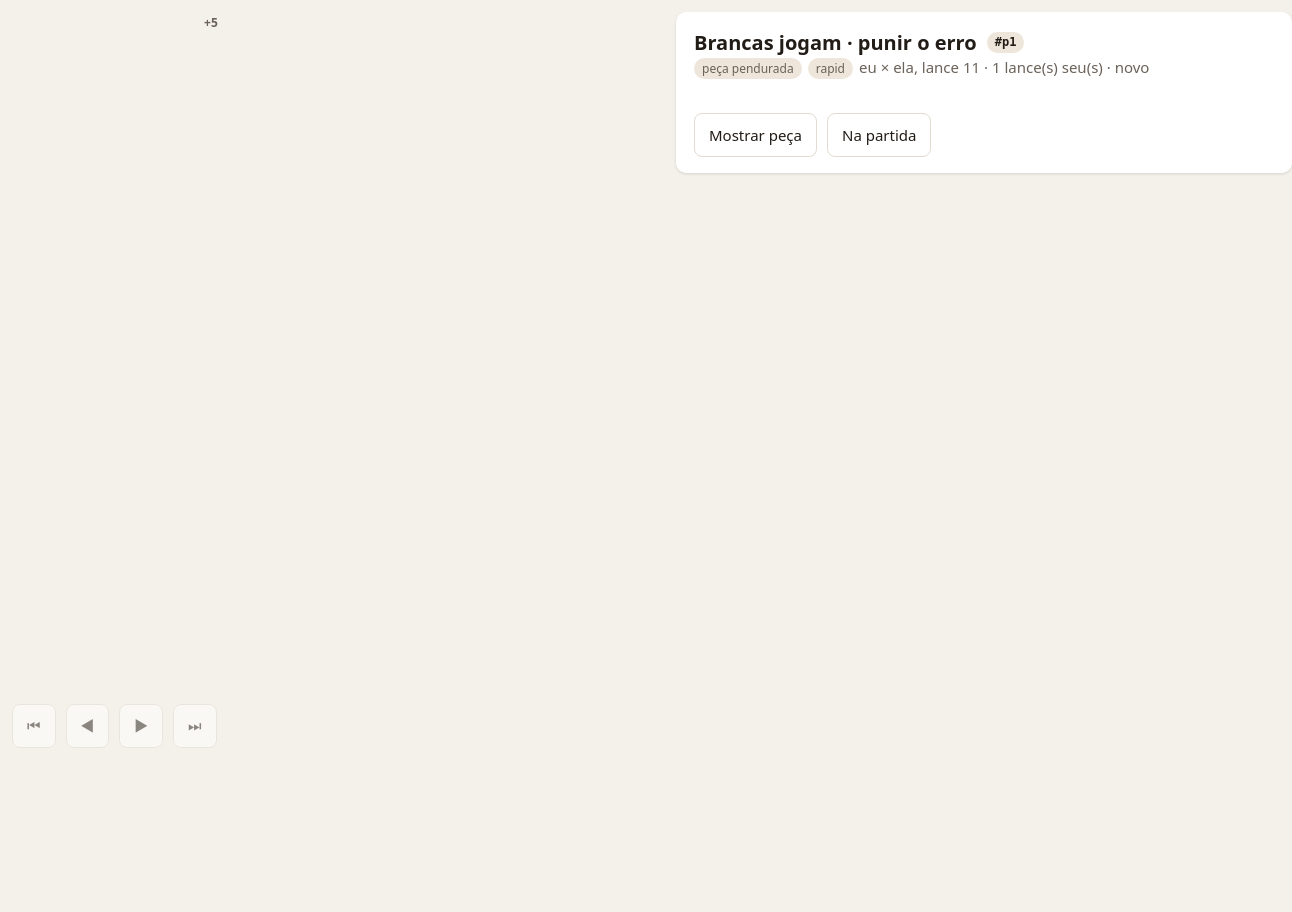
Scenario: o cartão do erro fica escondido atrás do botão 'Meu erro'
This screenshot has width=1292, height=912.
Check: the text "Na partida você jogou" is not shown
Click the button "Na partida". click: (879, 135)
box: 827,113 -> 932,157
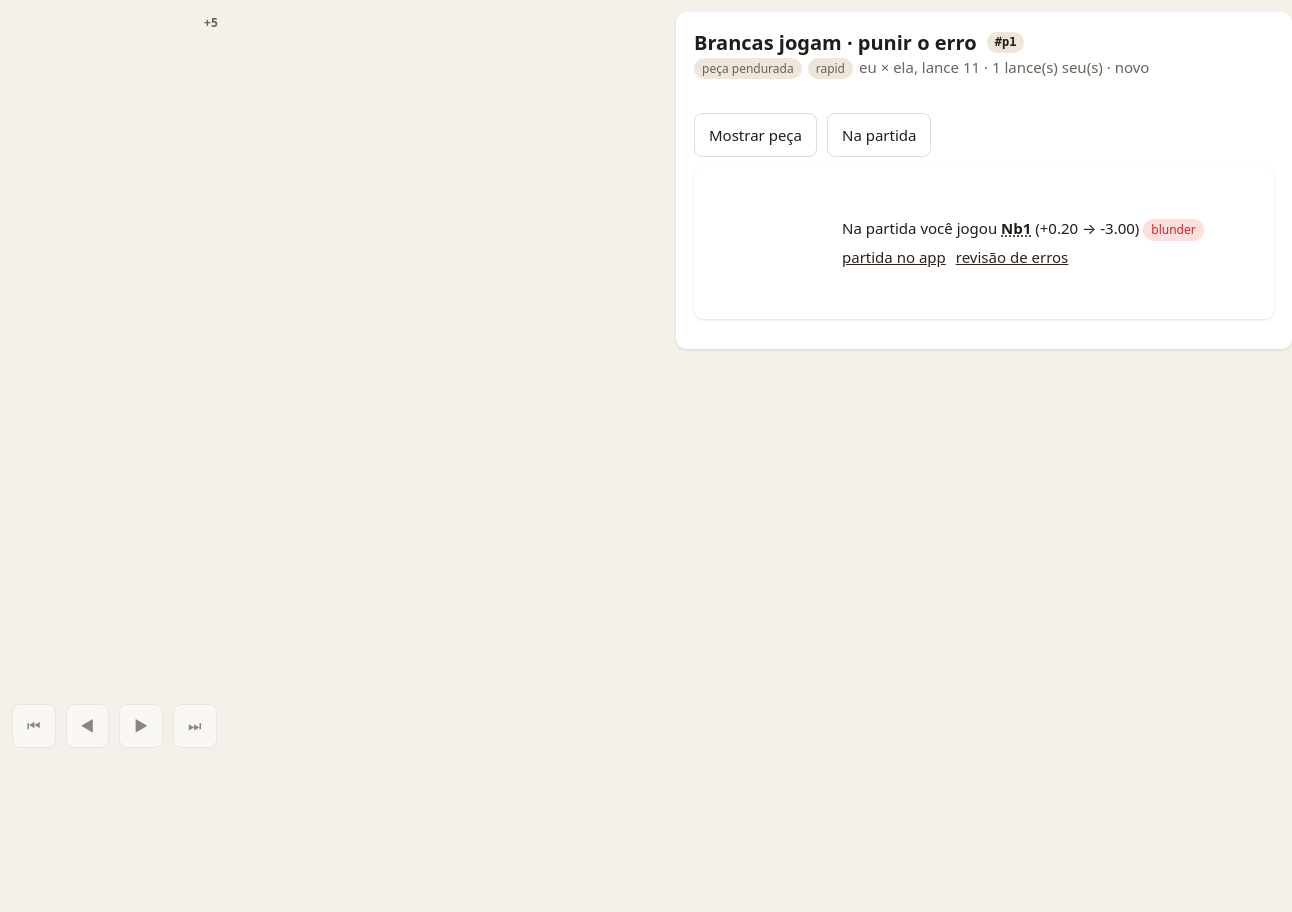
Check: the text "Na partida você jogou Nb1 (+0.20 → -3.00) blunder" is shown, box 842,218 -> 1256,241
Check: the link "partida no app" is shown, box 842,247 -> 946,268
Click the button "Na partida". click: (879, 135)
box: 827,113 -> 932,157
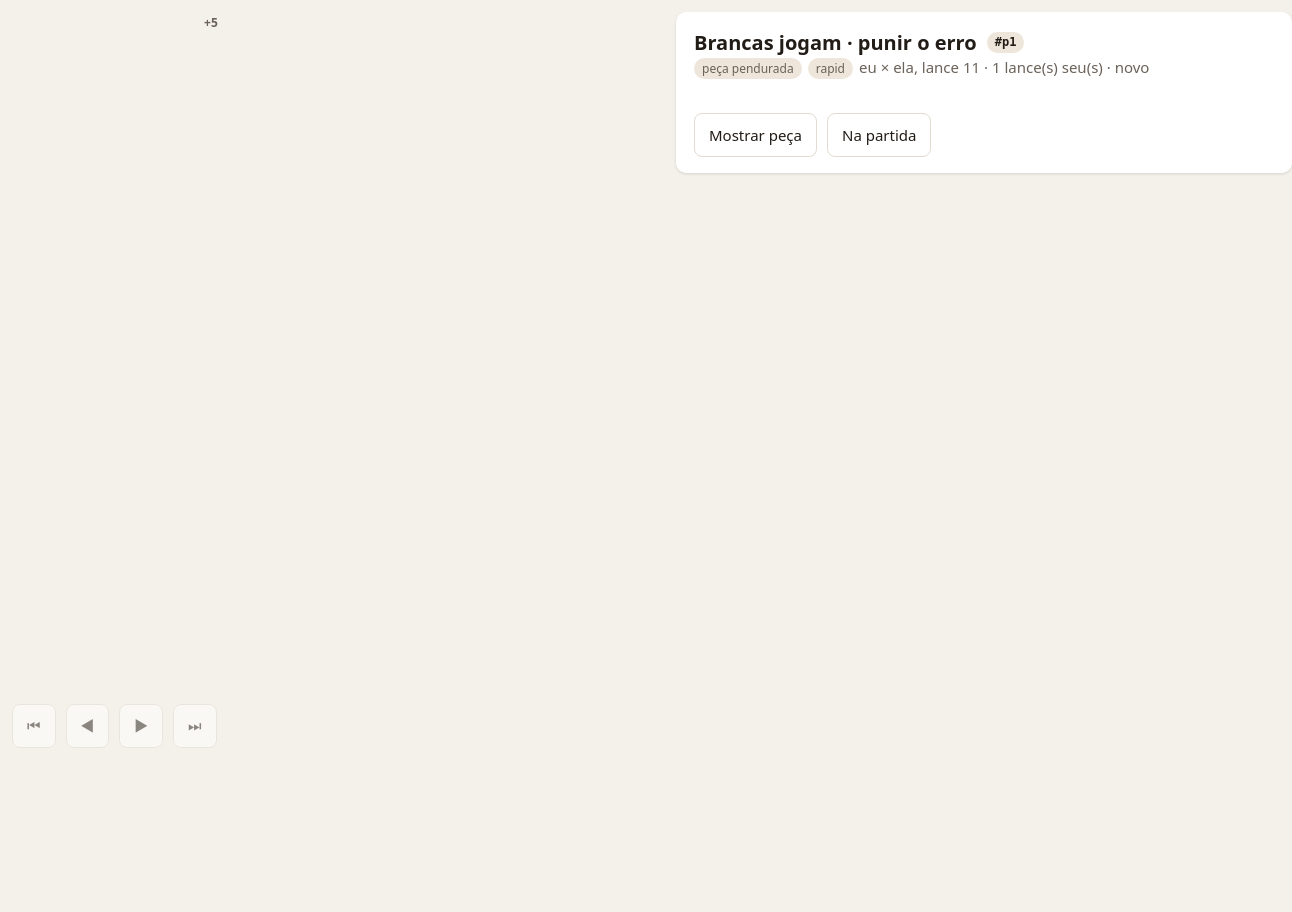
Check: the text "Na partida você jogou" is gone
